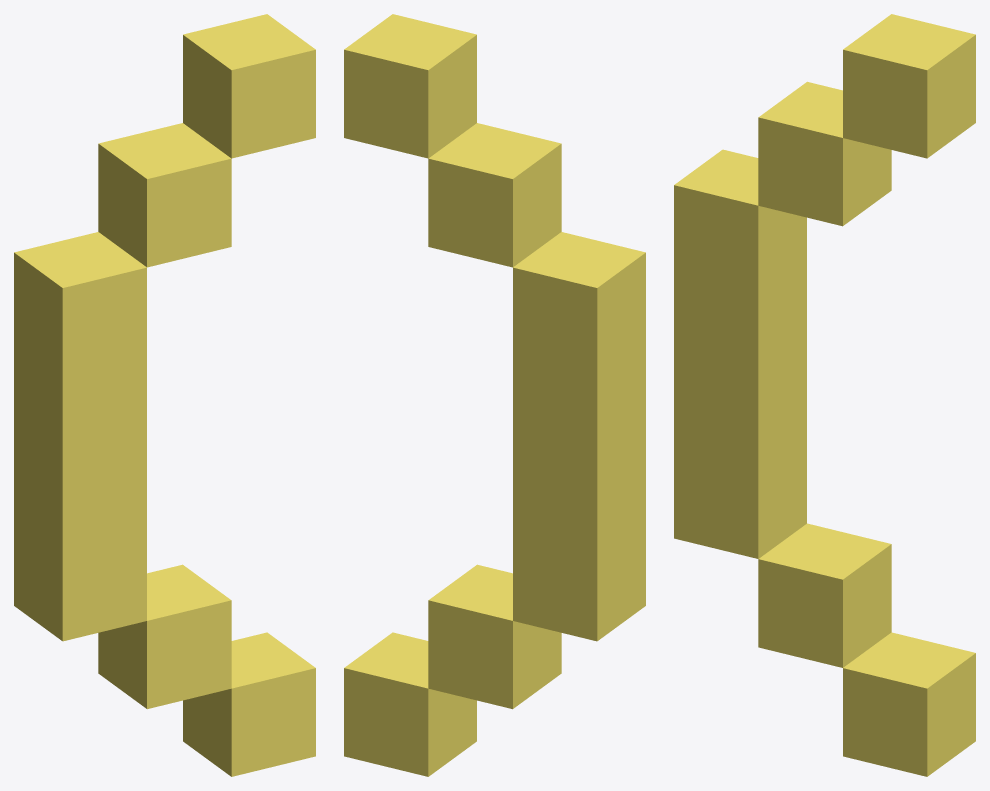
File: Bow-Yellow.vox.obj
The picture shows the model from 3 angles, left to right: view 1: azimuth 30°, elevation 25°; view 2: azimuth 150°, elevation 25°; view 3: azimuth 330°, elevation 25°; orthographic projection.
Bounding box in the file's own units: 0.3 × 0.8 × 0.1.
1 material, 1 textured.
